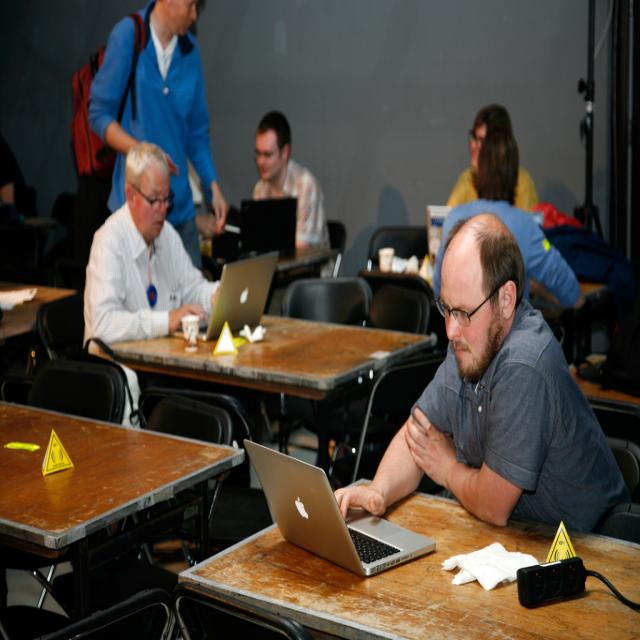chair: (28, 357, 128, 424), (282, 276, 372, 325), (368, 278, 432, 334), (36, 291, 87, 361), (366, 224, 426, 266)
desk: (176, 474, 640, 640)
laptop: (244, 442, 438, 578), (201, 249, 280, 341), (238, 196, 299, 258)
person: (336, 211, 634, 537), (90, 0, 228, 271), (436, 106, 595, 332), (82, 144, 220, 352), (247, 110, 329, 256)
